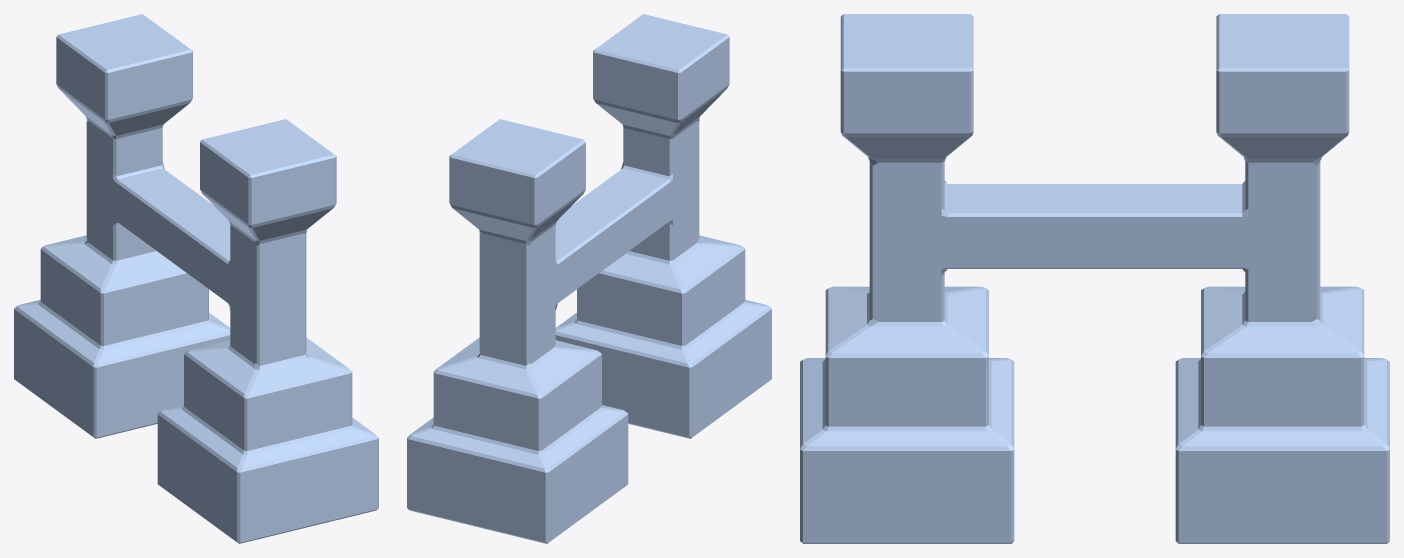
Rendered from Extra 5.fbx.
3 views of the same model, side by side, from view 1: azimuth 30°, elevation 25°; view 2: azimuth 150°, elevation 25°; view 3: azimuth 270°, elevation 25° (orthographic). The views are drawn at different scales.
Parts seen in each view (by area): view 1: Extra 5; view 2: Extra 5; view 3: Extra 5.
Boxes of the visible parts, x1=… form: Extra 5: x1=14, y1=14, x2=378, y2=543; Extra 5: x1=407, y1=14, x2=771, y2=543; Extra 5: x1=800, y1=14, x2=1389, y2=543.
Size of the model in its own units: 71.05 by 168 by 196.
